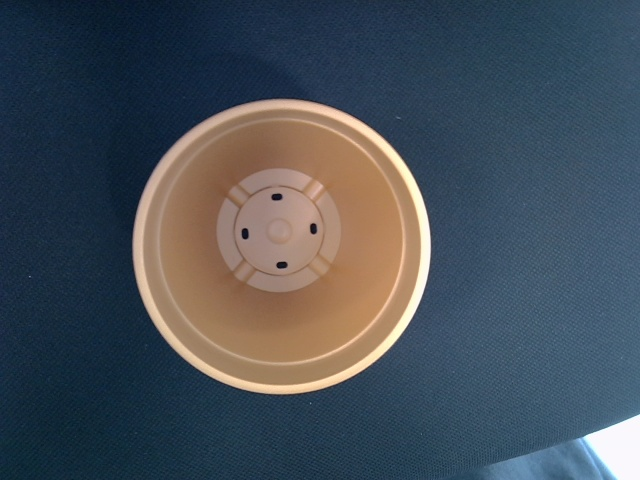화분: (133, 96, 433, 394)
